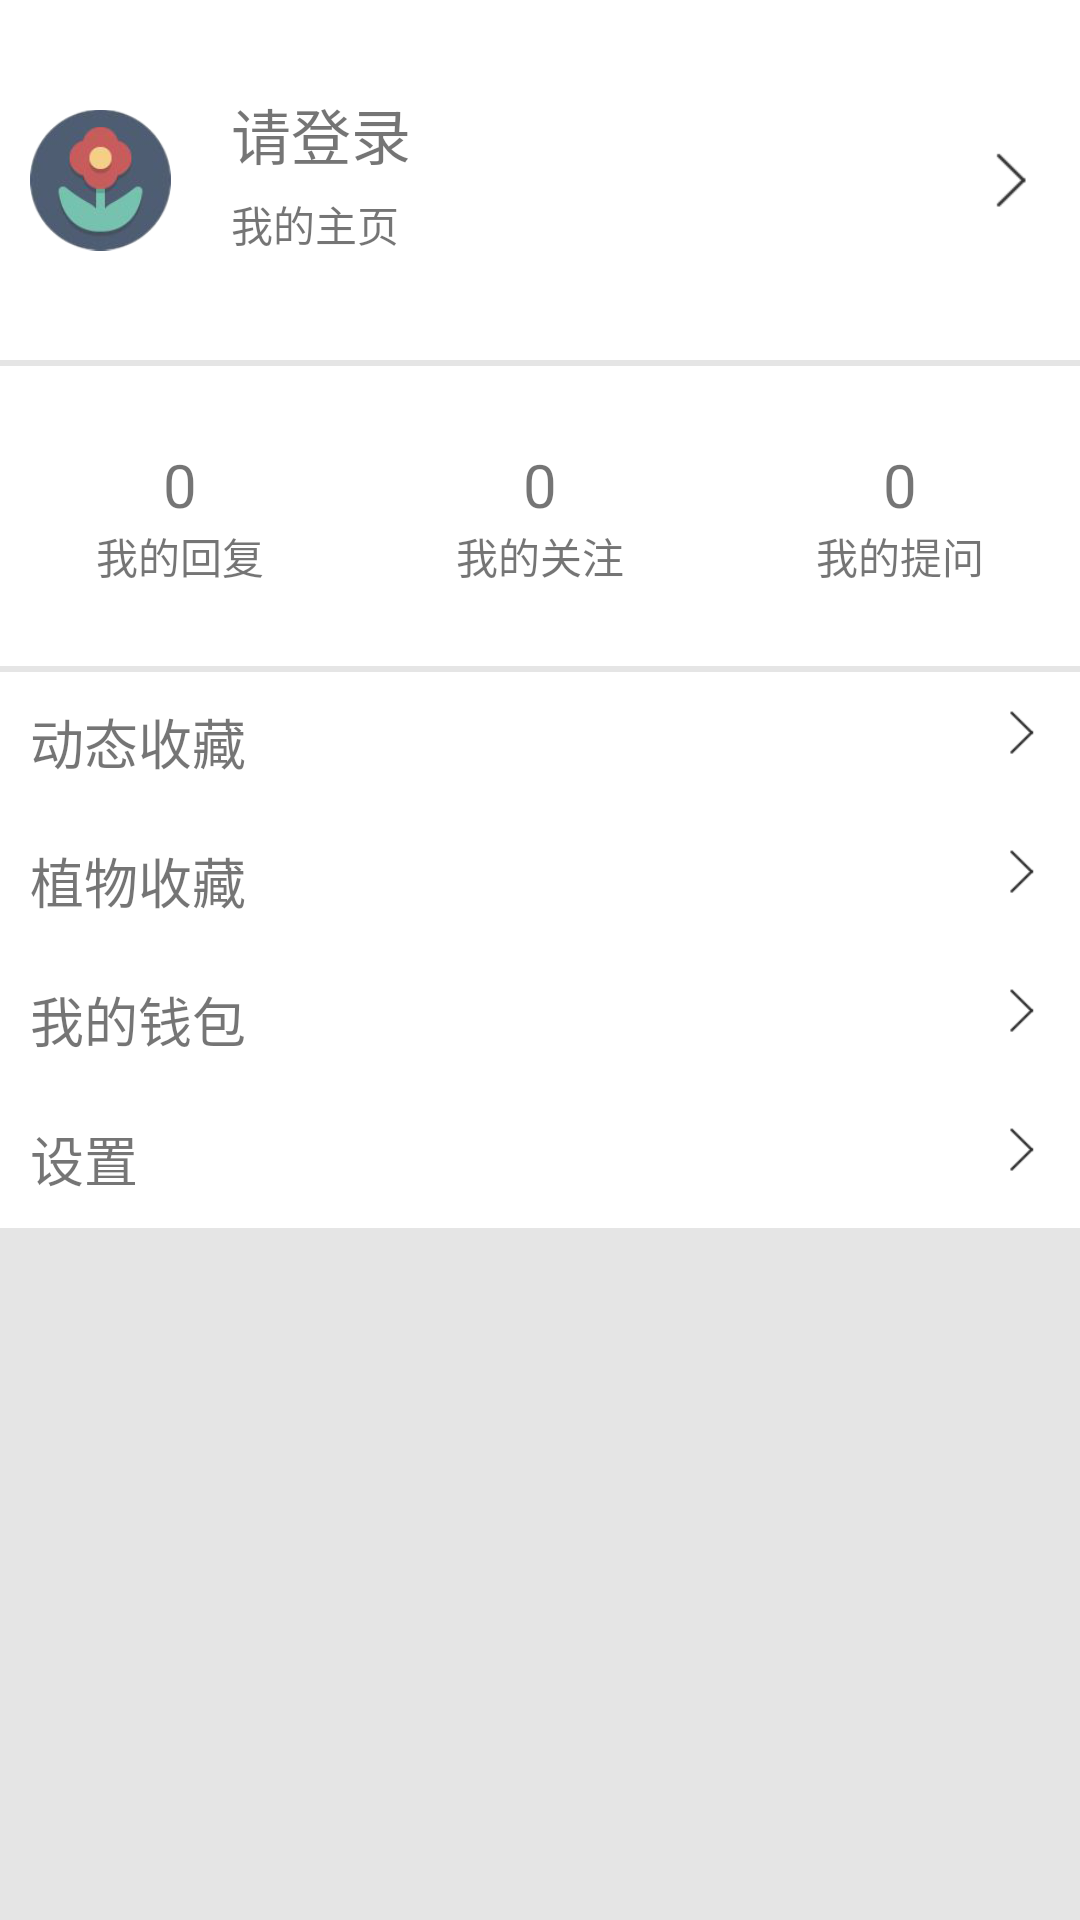

Icon click points for this 1080 x 1920 phone screenshot, format [x,y]:
hua: [100,180]
jiantou: [1011,180], [1022,732], [1022,871], [1022,1010], [1022,1149]
